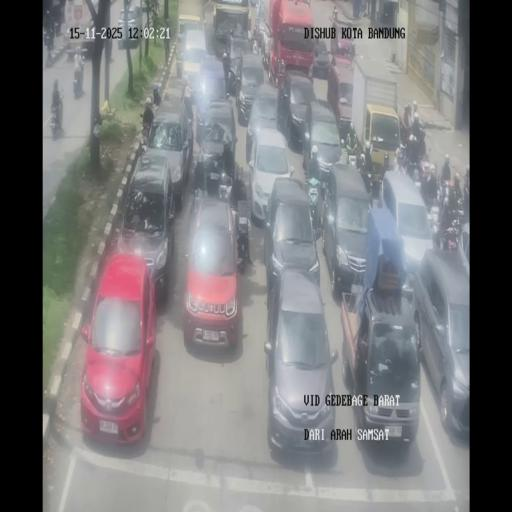car: (80, 251, 157, 443), (341, 276, 421, 452), (264, 268, 337, 455), (412, 246, 468, 440), (182, 197, 244, 352), (323, 164, 372, 296), (380, 170, 436, 284), (142, 99, 192, 202), (249, 126, 294, 227), (195, 103, 238, 197), (303, 98, 342, 184), (234, 51, 266, 125), (330, 57, 356, 132), (180, 28, 207, 89), (118, 5, 143, 50), (71, 21, 96, 60), (311, 38, 332, 77), (254, 0, 268, 47), (334, 30, 355, 58), (203, 21, 217, 55)
motorcycle: (234, 198, 252, 268), (436, 206, 462, 252), (306, 172, 324, 230), (404, 146, 424, 184), (370, 156, 385, 200), (50, 105, 62, 140), (43, 16, 55, 51), (392, 145, 406, 175), (452, 181, 464, 215), (72, 65, 84, 98), (399, 114, 410, 146), (140, 119, 152, 145), (412, 102, 423, 130), (152, 82, 162, 106), (347, 148, 358, 168), (246, 24, 254, 50), (361, 0, 370, 18), (53, 16, 60, 36), (332, 6, 338, 22)
truck: (351, 56, 399, 170), (267, 0, 315, 86), (212, 2, 252, 59)
